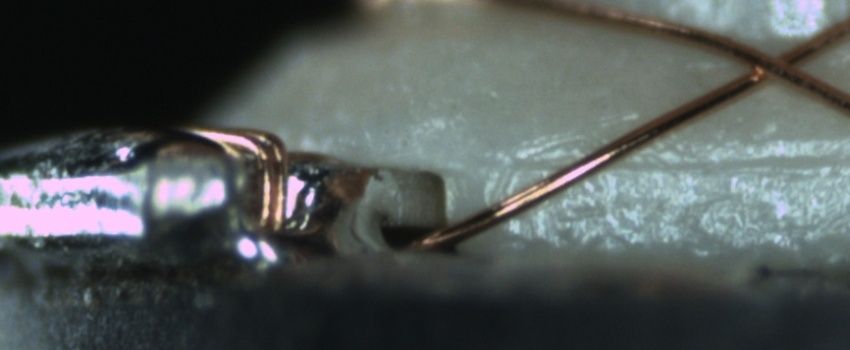CL: (729, 37, 818, 90)
DL: (519, 132, 850, 195)
TE: (181, 123, 293, 242)
